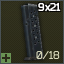SR-1MP 9x21 18-round magazine: (0, 0, 64, 64)
